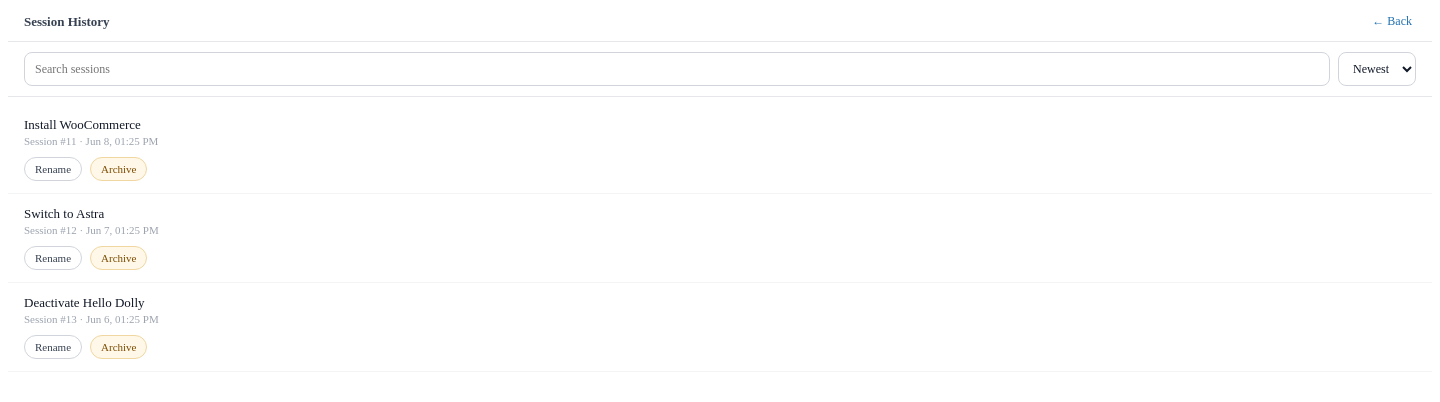
Scenario: ConversationManager › renames a session inline and updates the visible title
Expected: the text "Install WooCommerce" is shown, [24,117,141,132]
Click the button "Rename" below "Session #11 · Jun 8, 01:25 PM". click: (53, 169)
box: [24,157,82,181]
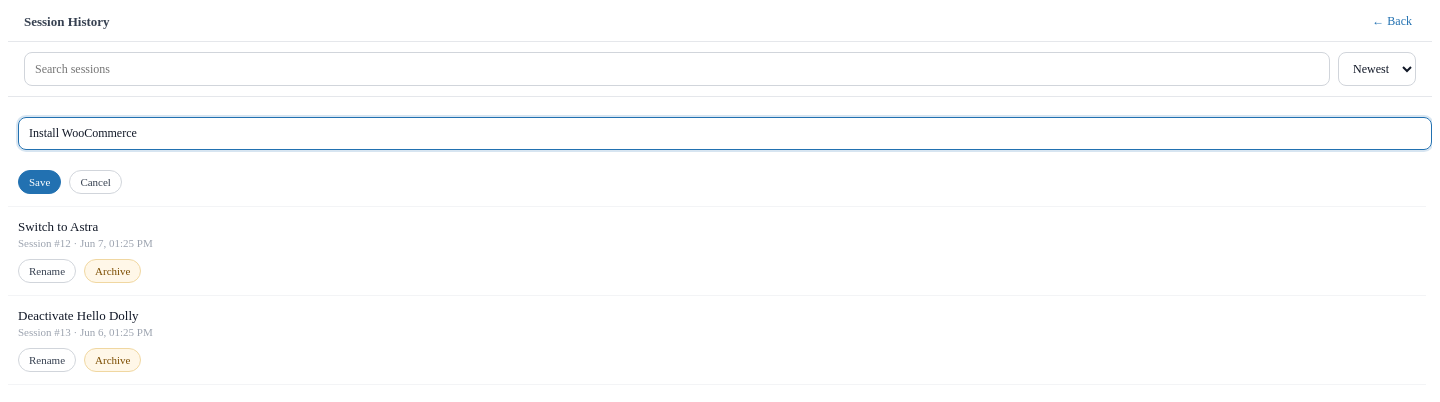
Replace the text in the field named "Session name" with "WooCommerce setup". click: (725, 134)
box: [18,117,1432,150]
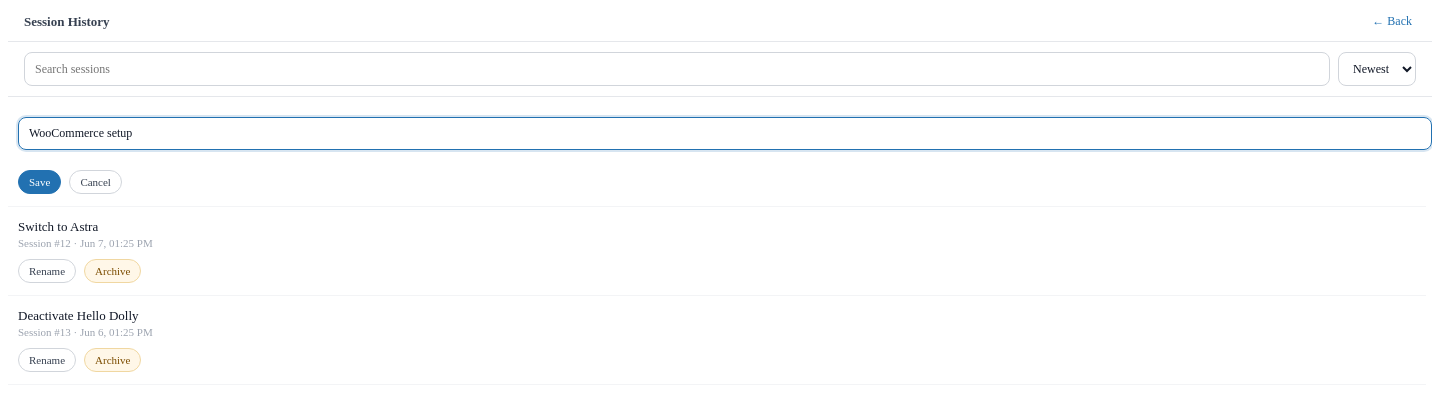
Submit the text "Save", box [18,117,1410,194]
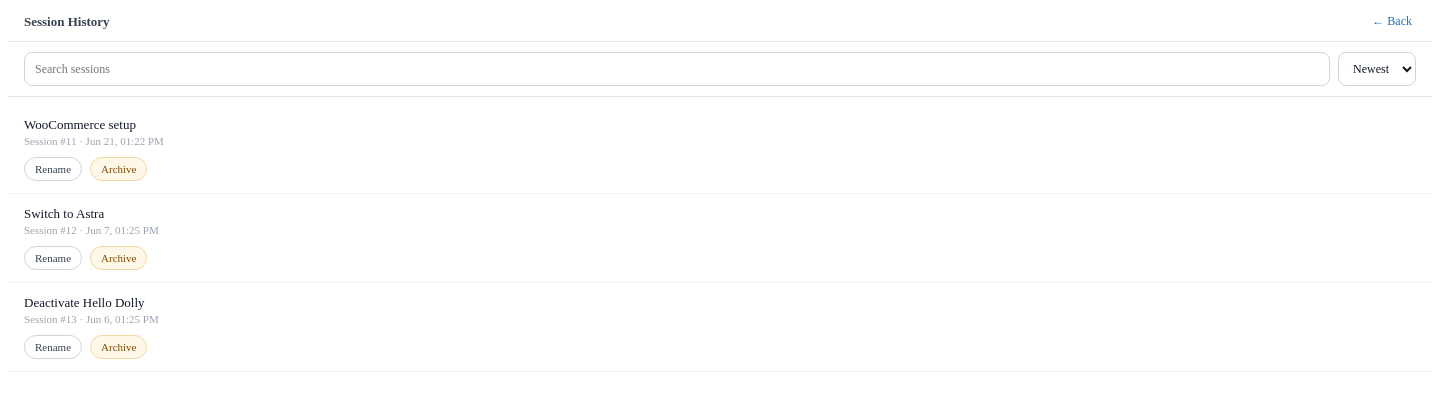
Now the text "WooCommerce setup" is shown, box [24,117,136,132]
